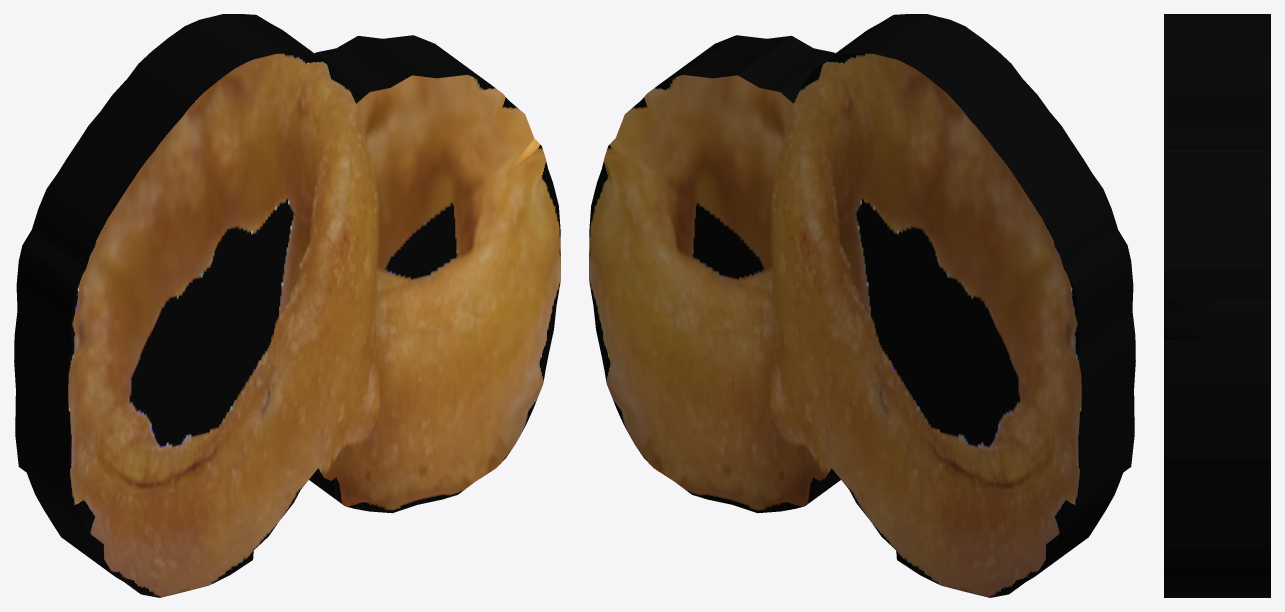
File: onion.glb
3 views of the same model, side by side, from view 1: azimuth 30°, elevation 25°; view 2: azimuth 150°, elevation 25°; view 3: azimuth 270°, elevation 25° (orthographic).
Parts seen in each view (by area): view 1: Plane; view 2: Plane; view 3: Plane.
Boxes of the visible parts, box(x1,y1,x2,y2) form: Plane: box(14, 14, 560, 597); Plane: box(589, 14, 1135, 597); Plane: box(1164, 14, 1270, 597).
Bounding box in the file's own units: 0.9995 × 1 × 0.19.
1 material, 1 textured.
